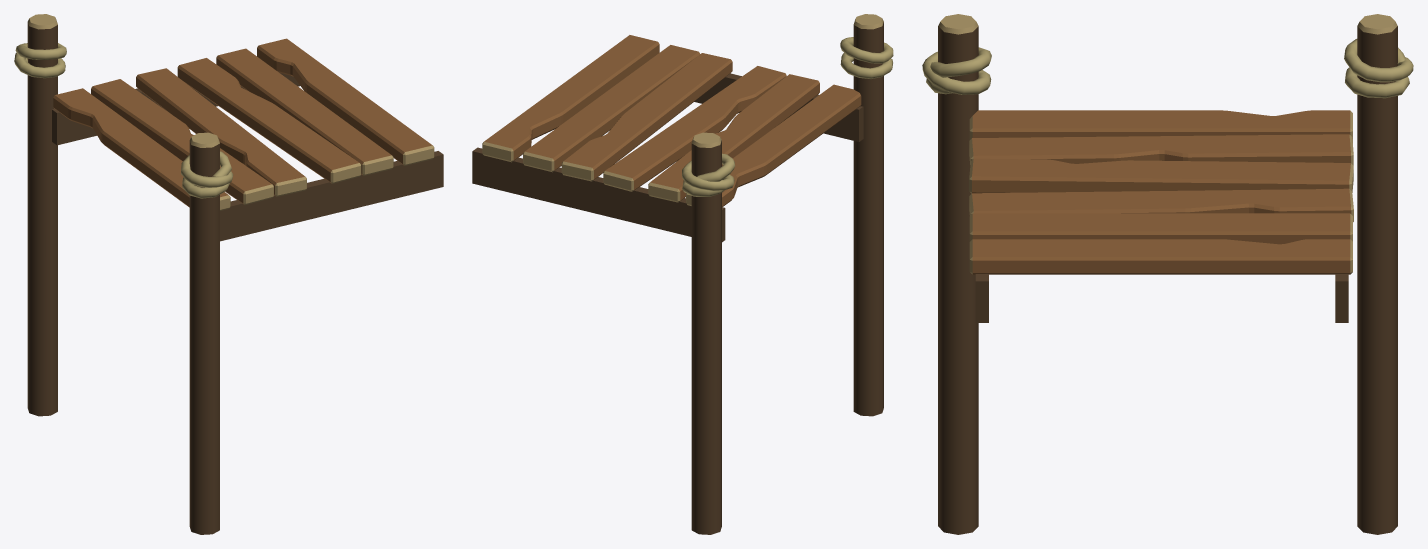
The model's file is dock.glb.
3 views of the same model, side by side, from view 1: azimuth 30°, elevation 25°; view 2: azimuth 150°, elevation 25°; view 3: azimuth 270°, elevation 25° (orthographic). The views are drawn at different scales.
Parts seen in each view (by area): view 1: Environment_Dock; view 2: Environment_Dock; view 3: Environment_Dock.
Part boxes in pixels (bbox=[...]): Environment_Dock: bbox=[14, 14, 443, 534]; Environment_Dock: bbox=[472, 14, 893, 534]; Environment_Dock: bbox=[922, 14, 1413, 534].
Bounding box in the file's own units: 2.9 × 4 × 3.53.
1 material, 1 textured.
